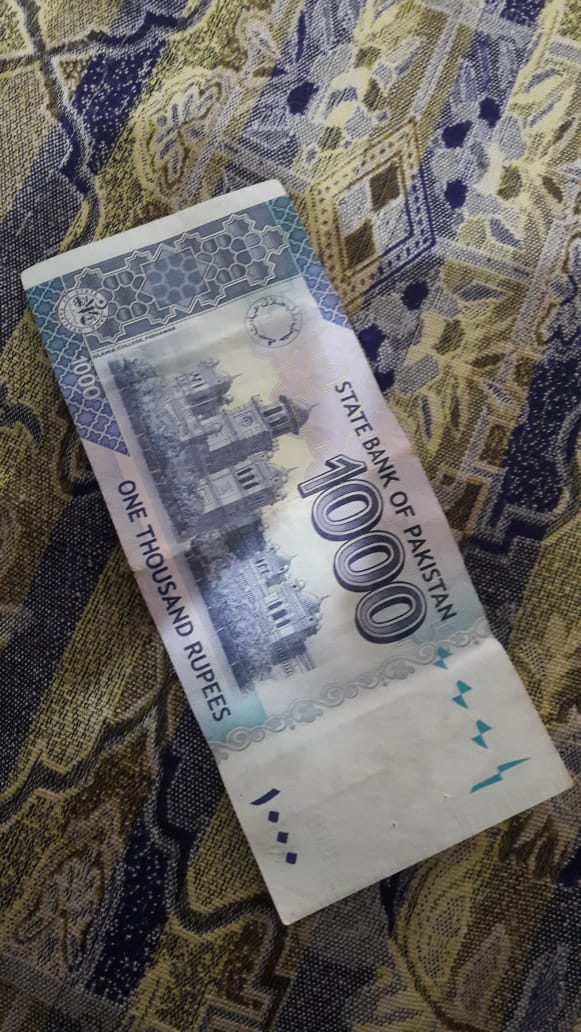1000 rupee: (20, 160, 580, 966)
